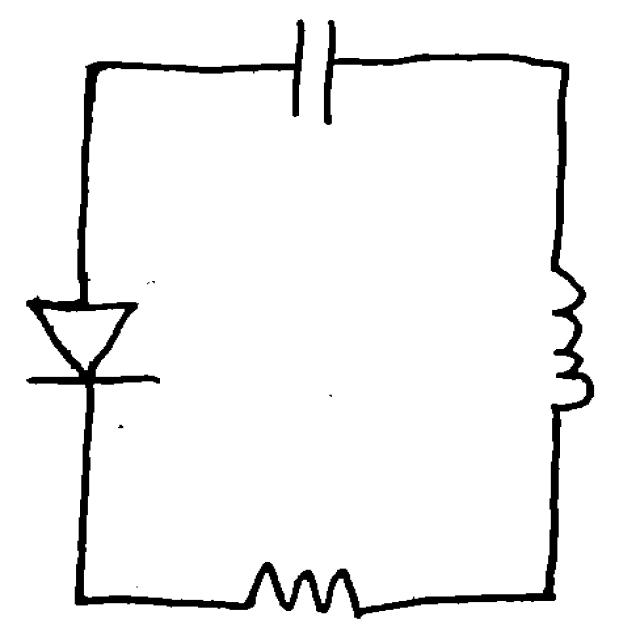capacitor: (281, 10, 348, 133)
diode: (16, 282, 176, 410)
inductor: (519, 259, 607, 431)
resistor: (239, 542, 377, 628)
